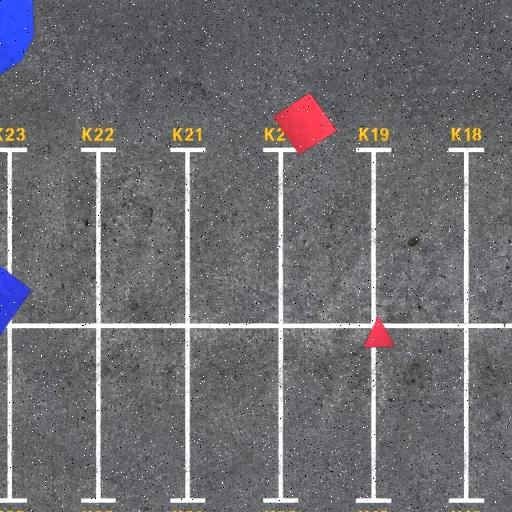RED_SQUARE: (272, 91, 338, 155)
